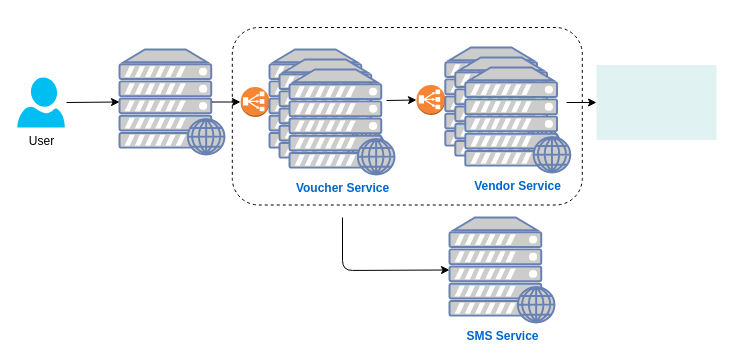
The diagram is 734 pixels wide and 360 high, and some of its shapes have lost their labels. The shapes that lost their labels are listed below. From the top down, each one's box as (x1, y1, x2, y2) in pixels, then its label:
(118, 48, 225, 155): ABC Website
(596, 64, 716, 140): External Infrastructure 3 rd Party
